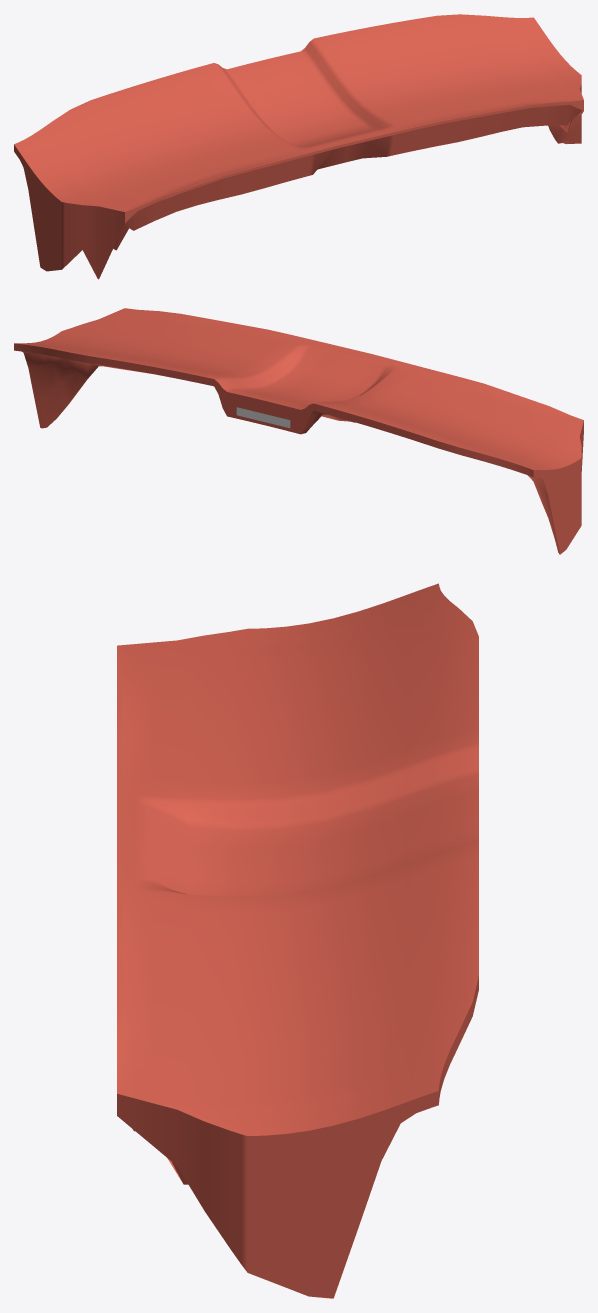
File: wendtStrom_spoiler_sportWild.glb
3 renders of one model, top to bottom at view 1: azimuth 30°, elevation 25°; view 2: azimuth 150°, elevation 25°; view 3: azimuth 270°, elevation 25°, orthographic. The views are drawn at different scales.
Visible parts, largest first — view 1: spoiler_sportWild; view 2: spoiler_sportWild; view 3: spoiler_sportWild.
Part boxes in pixels (x1,y1,x2,y2): spoiler_sportWild: (14,14,583,279); spoiler_sportWild: (14,308,583,554); spoiler_sportWild: (117,583,478,1298).
Size of the model in its own units: 1.2 by 0.2811 by 0.3641.
